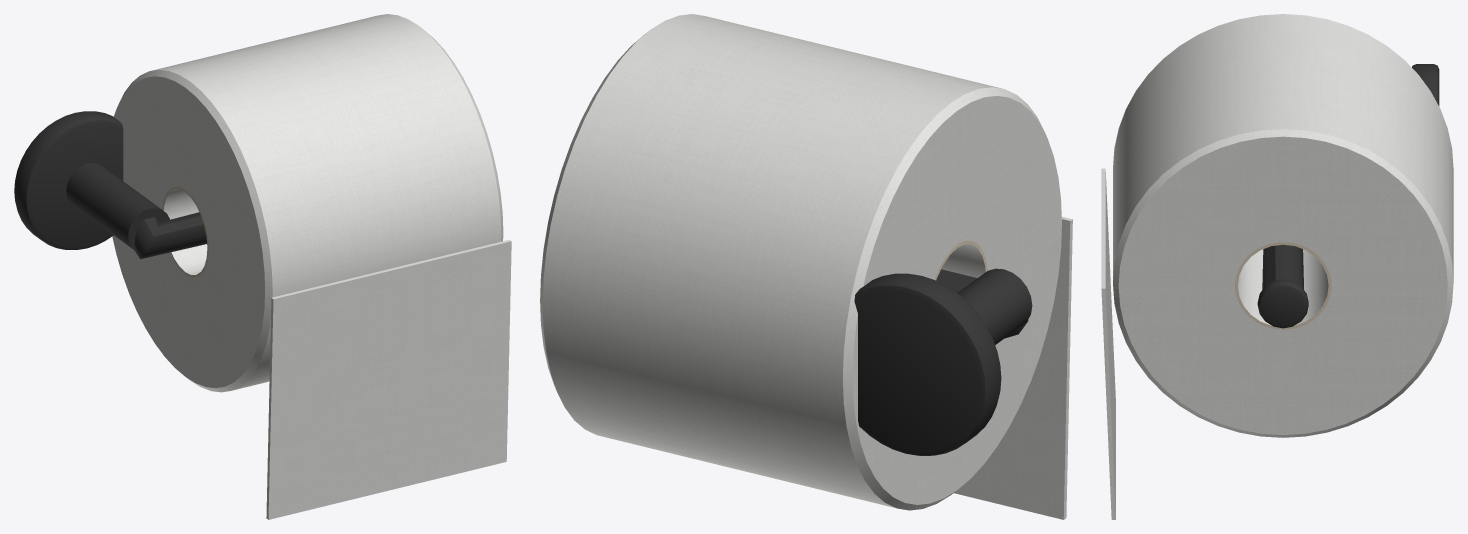
Rendered from portarrollo-negro-v2.gltf.
The picture shows the model from 3 angles, left to right: view 1: azimuth 30°, elevation 25°; view 2: azimuth 150°, elevation 25°; view 3: azimuth 270°, elevation 25°; orthographic projection. The views are drawn at different scales.
Visible parts, largest first — view 1: portarrollo-negro__p_rollo, portarrollo-negro__m_negro; view 2: portarrollo-negro__p_rollo, portarrollo-negro__m_negro; view 3: portarrollo-negro__p_rollo, portarrollo-negro__m_negro, portarrollo-negro__p_libro2.
Part boxes in pixels (x1,y1,x2,y2): portarrollo-negro__p_rollo: (112, 14, 511, 519); portarrollo-negro__m_negro: (14, 111, 206, 259); portarrollo-negro__p_rollo: (540, 14, 1072, 519); portarrollo-negro__m_negro: (854, 268, 1032, 455); portarrollo-negro__p_rollo: (1101, 14, 1453, 519); portarrollo-negro__m_negro: (1257, 64, 1439, 328); portarrollo-negro__p_libro2: (1235, 242, 1331, 329).
Bounding box in the file's own units: 0.159 × 0.151 × 0.124.
Materials: 3 (1 with a texture image).
